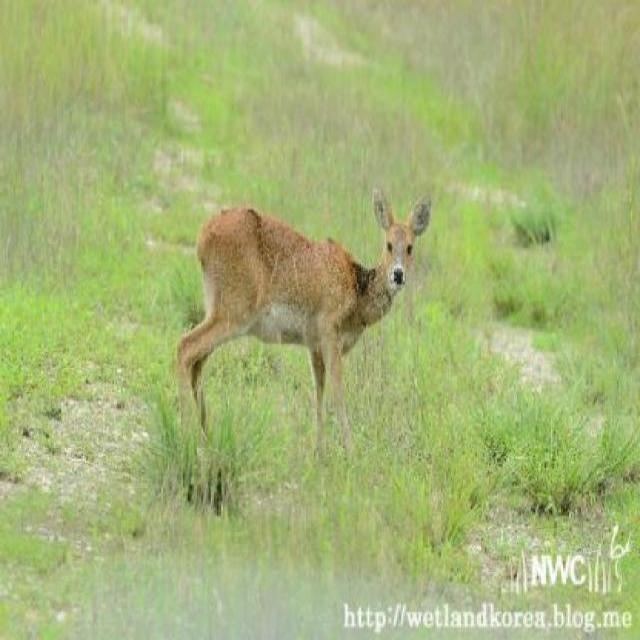deer: (172, 185, 436, 464)
